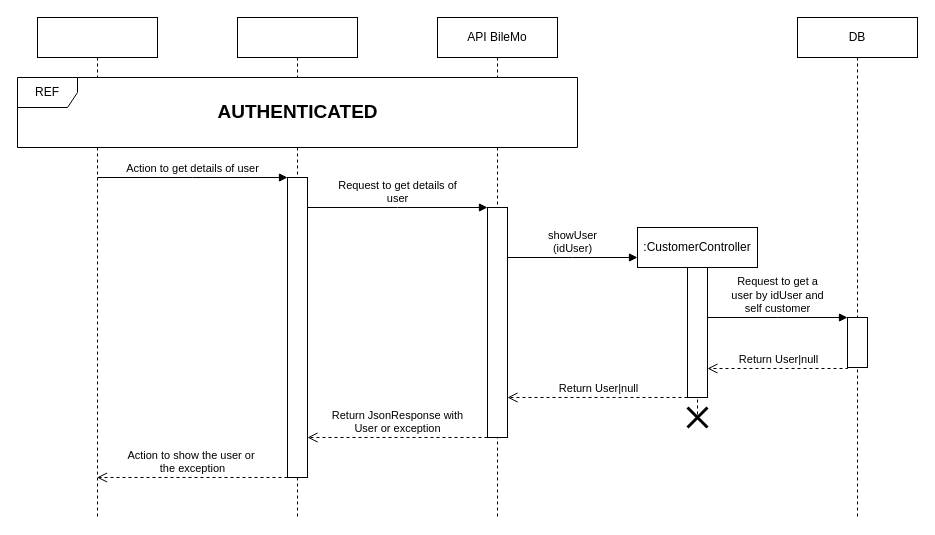
Image size: 935x535. Some labels were removed from this diagram. The box of each missing label's shape, as (x1, y1, x2, y2) in pixels:
Customer App: (236, 16, 358, 518)
User: (36, 16, 158, 518)
